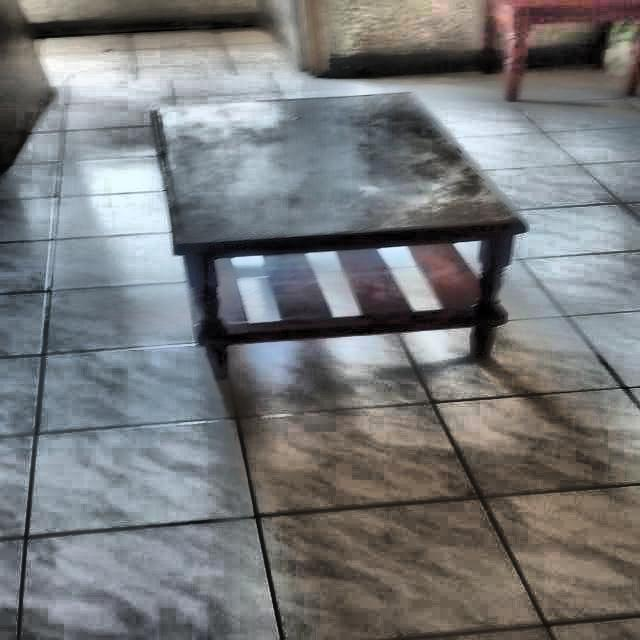mesa: (144, 83, 526, 374)
